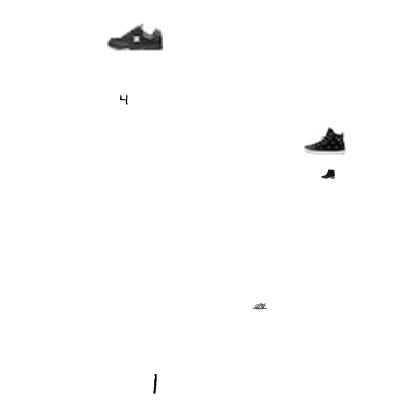1: (141, 369, 169, 397)
4: (117, 92, 131, 106)
Ankle_boot: (321, 167, 335, 181)
Sandal: (253, 299, 267, 313)
Sneaker: (107, 10, 163, 66), (304, 120, 346, 162)
